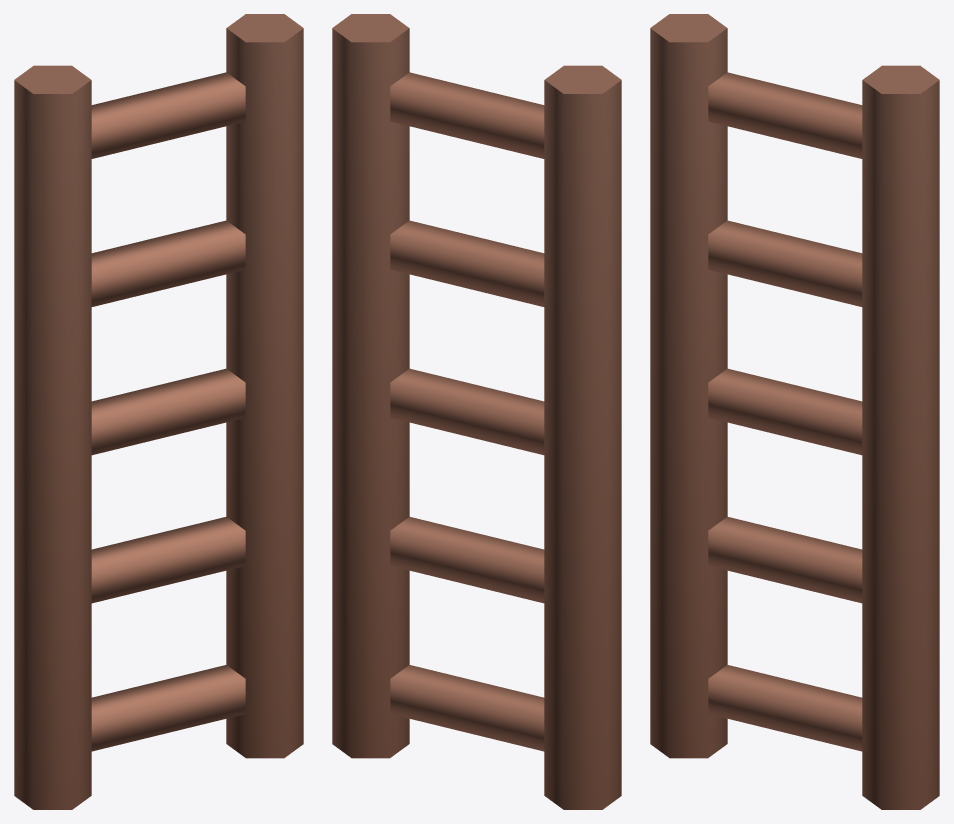
The model's file is ladder.glb.
3 views of the same model, side by side, from view 1: azimuth 30°, elevation 25°; view 2: azimuth 150°, elevation 25°; view 3: azimuth 330°, elevation 25° (orthographic).
Parts seen in each view (by area): view 1: ladder; view 2: ladder; view 3: ladder.
Part boxes in pixels (bbox=[...]): ladder: bbox=[14, 14, 303, 809]; ladder: bbox=[332, 14, 621, 809]; ladder: bbox=[650, 14, 939, 809].
Bounding box in the file's own units: 1.15 × 2.9 × 0.284.
Materials: 1 (1 with a texture image).
